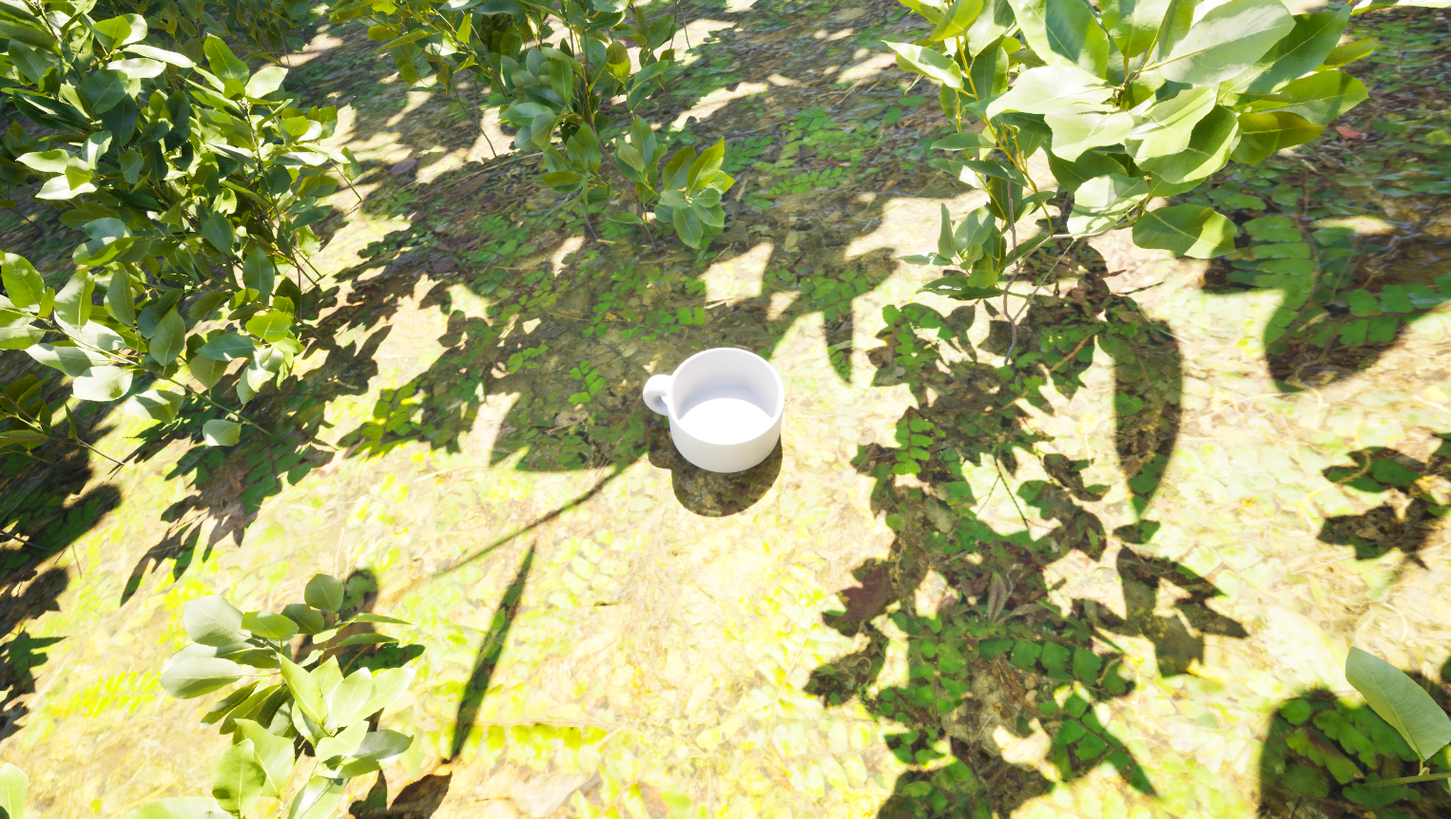Teacup: (631, 319, 810, 496)
